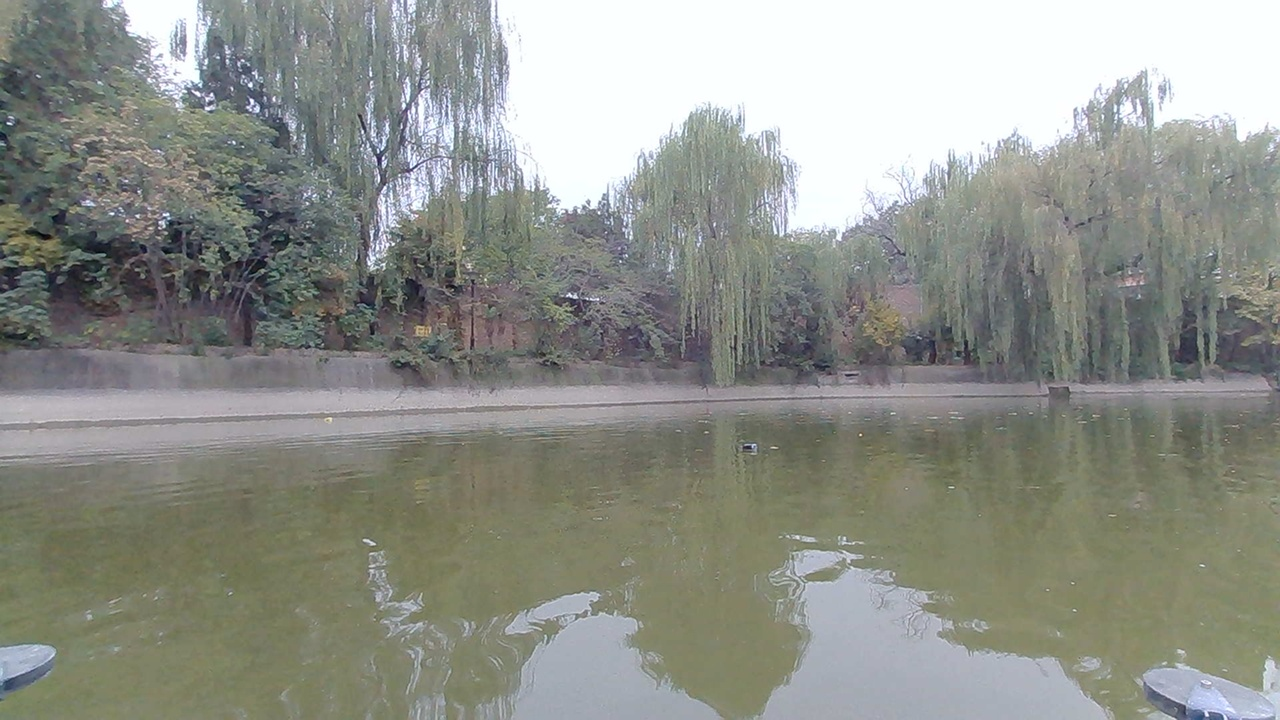bottle: (738, 433, 766, 459)
